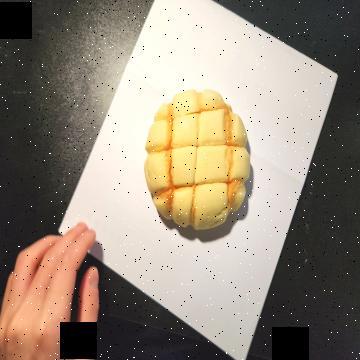melon_bread: (144, 88, 250, 235)
